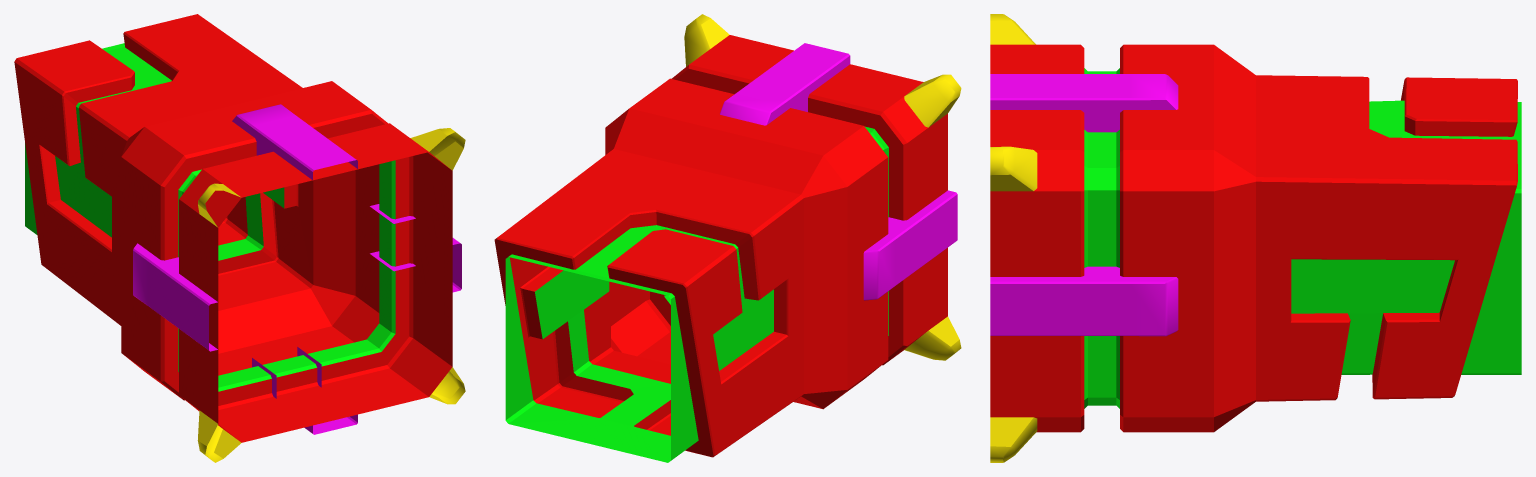
File: MePillarBase.FBX
The picture shows the model from 3 angles, left to right: view 1: azimuth 30°, elevation 25°; view 2: azimuth 150°, elevation 25°; view 3: azimuth 270°, elevation 25°; orthographic projection. The views are drawn at different scales.
Visible parts, largest first — view 1: tete; view 2: tete; view 3: tete.
Boxes of the visible parts, x1,y1,x2,y2 form: tete: (14,14,465,462); tete: (494,14,961,462); tete: (990,14,1521,462).
Size of the model in its own units: 0.9778 by 0.9778 by 1.5.
